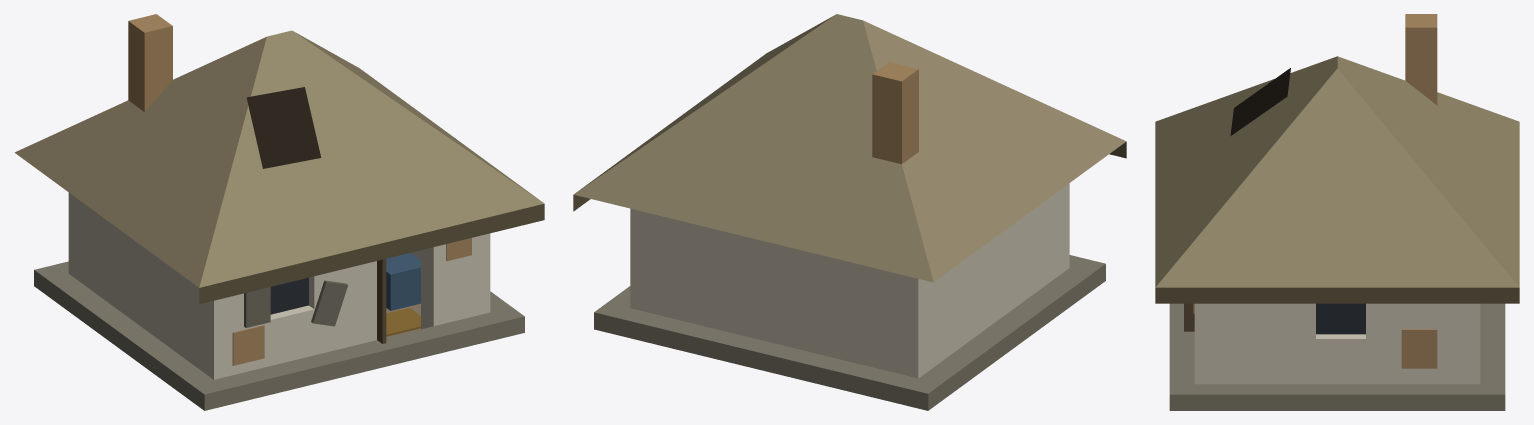
File: pustka.glb
The picture shows the model from 3 angles, left to right: view 1: azimuth 30°, elevation 25°; view 2: azimuth 150°, elevation 25°; view 3: azimuth 270°, elevation 25°; orthographic projection. The views are drawn at different scales.
Visible parts, largest first — view 1: roof_south, roof_west, wall_west, wall_south (×3), pryzba_s, eave_s, pryzba_w, roof_hole, chimney, wall_south_sill, skrynia, roof_east (+8 smaller); view 2: roof_north, wall_north, roof_west, wall_west, pryzba_n, pryzba_w, chimney, wall_east, roof_east, wall_south, pryzba_s; view 3: roof_east, wall_east (×2), roof_north, roof_south, pryzba_e, eave_e, pryzba_n, chimney, wall_east_sill, pryzba_s, wall_south, wall_north (+3 smaller).
Part boxes in pixels (x1,y1,x2,y2): roof_south: (199,30,543,287); roof_west: (14,36,266,287); wall_west: (81,202,235,379); wall_south (×3): (201,233,490,379); pryzba_s: (192,307,524,410); eave_s: (199,203,544,304); pryzba_w: (47,274,213,401); roof_hole: (246,87,321,168); chimney: (128,14,172,111); wall_south_sill: (270,305,314,365); skrynia: (386,253,420,310); roof_east: (293,31,538,199); roof_north: (574,14,933,282); wall_north: (630,214,931,378); roof_west: (863,20,1125,282); wall_west: (895,184,1069,377); pryzba_n: (594,302,941,410); pryzba_w: (919,268,1092,400); chimney: (872,62,918,164); wall_east: (630,208,652,312); roof_east: (576,15,834,192); wall_south: (1057,183,1069,275); pryzba_s: (1069,255,1105,289); roof_east: (1155,68,1519,287); wall_east (×2): (1194,303,1480,384); roof_north: (1337,56,1519,287); roof_south: (1155,56,1337,287); pryzba_e: (1194,384,1480,410); eave_e: (1155,287,1519,303); pryzba_n: (1480,303,1505,410); chimney: (1405,14,1437,105); wall_east_sill: (1316,334,1365,384); pryzba_s: (1169,303,1194,410); wall_south: (1194,303,1219,384); wall_north: (1455,303,1480,384).
Bounding box in the file's own units: 5.5 × 4.2 × 5.1.
